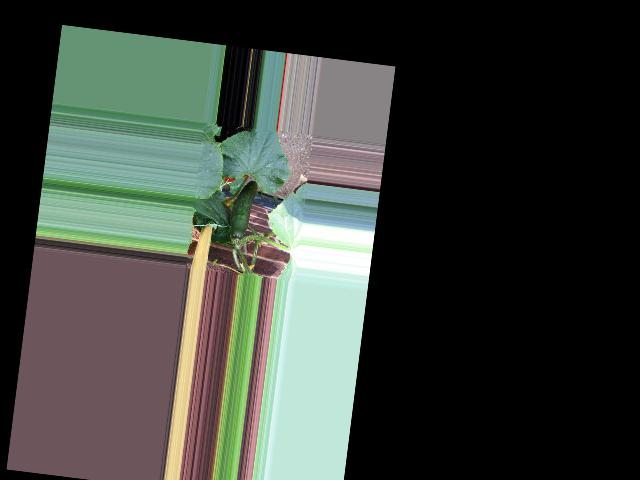cucumber: (228, 178, 259, 241)
